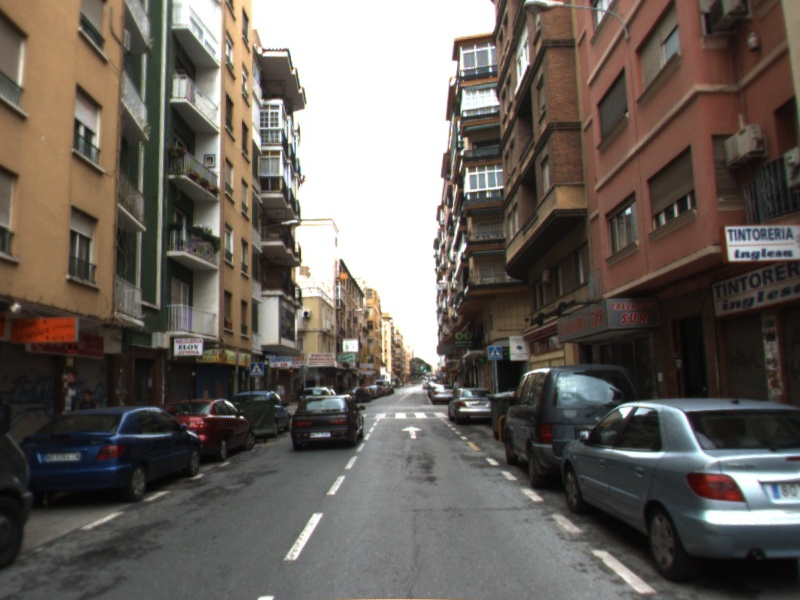STRAIGHT: (400, 424, 425, 441)
